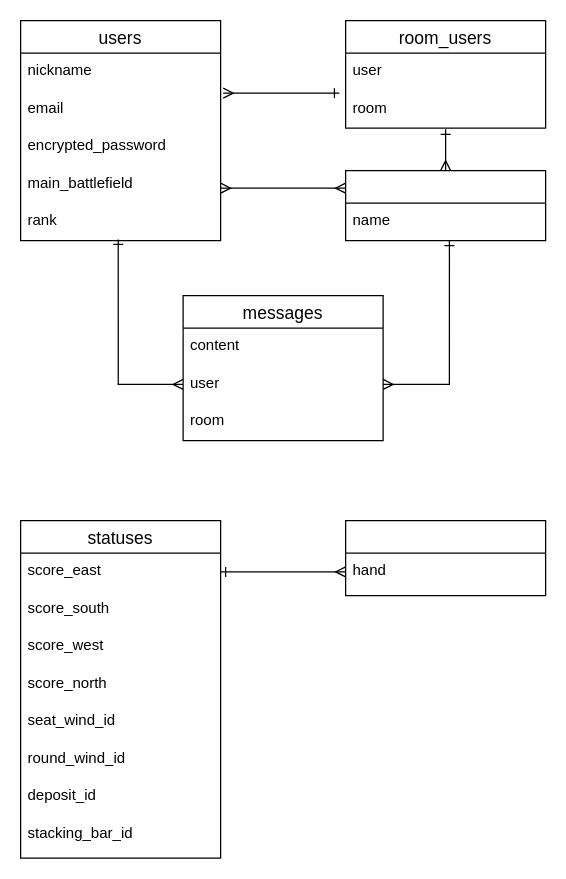
The diagram is 566 pixels wide and 879 high, and some of its shapes have lost their labels. The box of each missing label's shape, as (x1, y1, x2, y2) in pixels:
hands: (344, 519, 546, 596)
rooms: (344, 169, 546, 241)
